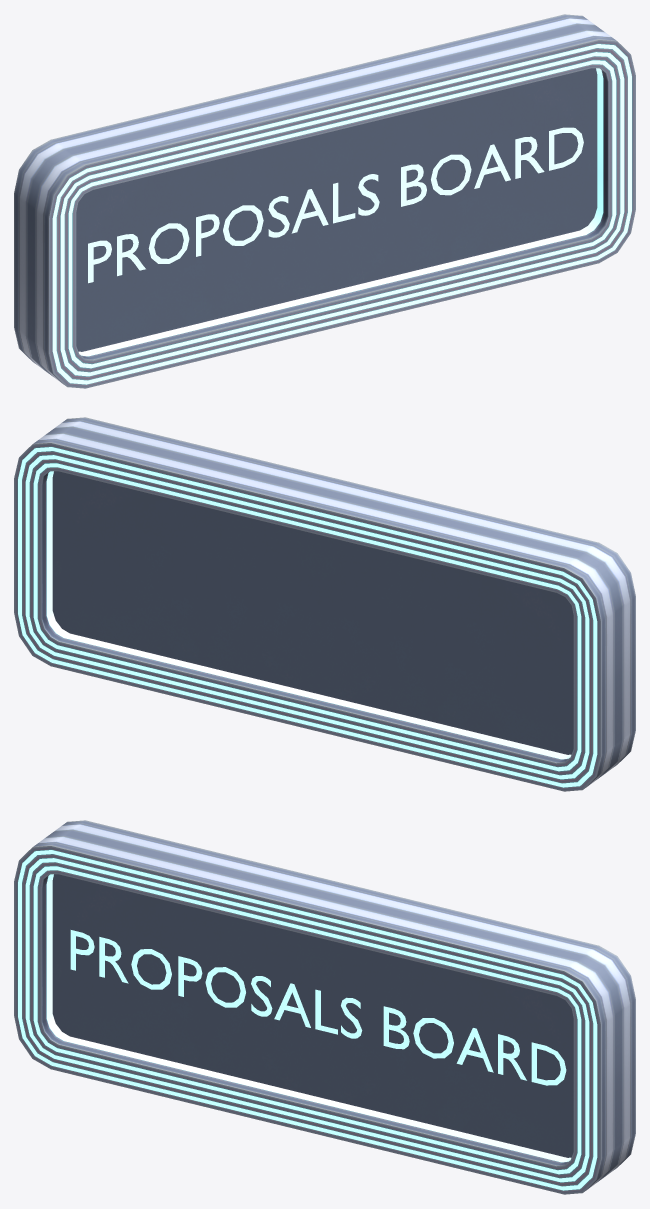
File: obj_pboard.gltf
The picture shows the model from 3 angles, top to bottom: view 1: azimuth 30°, elevation 25°; view 2: azimuth 150°, elevation 25°; view 3: azimuth 330°, elevation 25°; orthographic projection.
Visible parts, largest first — view 1: obj_pboard; view 2: obj_pboard; view 3: obj_pboard.
Boxes of the visible parts, left/top/right/bottom form: obj_pboard: left=14, top=14, right=635, bottom=388; obj_pboard: left=14, top=417, right=635, bottom=791; obj_pboard: left=14, top=820, right=635, bottom=1194.
Size of what is drawn, in the model's own units: 4.27 by 1.55 by 0.439.
2 materials, 1 textured.
